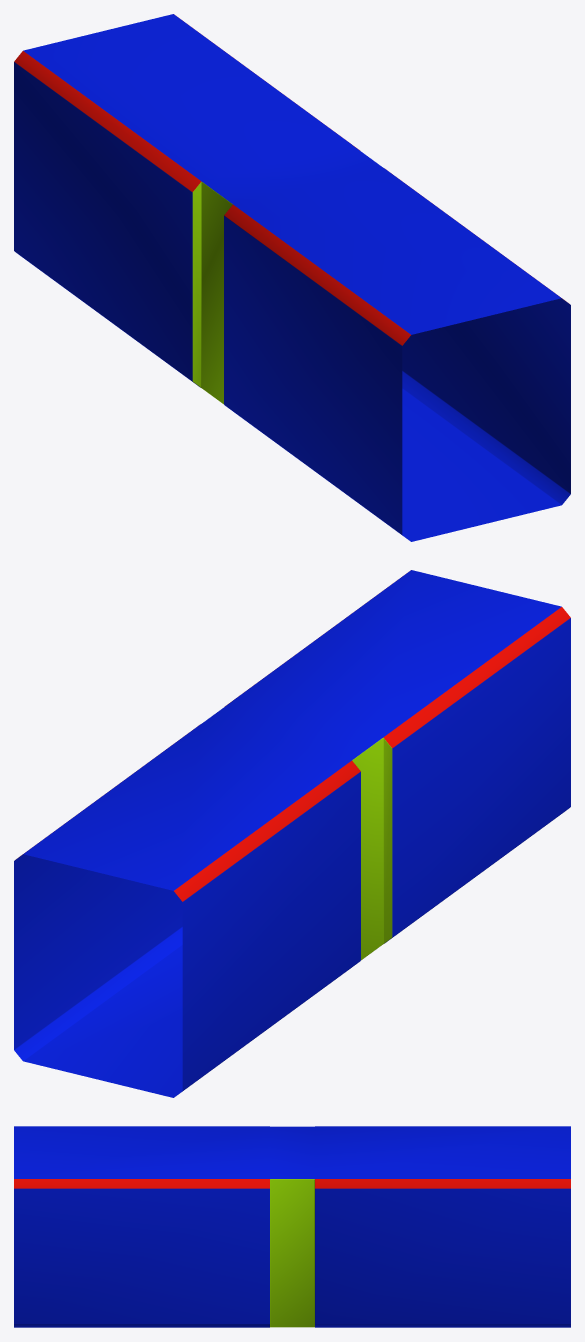
Rendered from Tunnel.fbx.
3 views of the same model, one above another, from view 1: azimuth 30°, elevation 25°; view 2: azimuth 150°, elevation 25°; view 3: azimuth 270°, elevation 25° (orthographic). The views are drawn at different scales.
Parts seen in each view (by area): view 1: Tunnel; view 2: Tunnel; view 3: Tunnel.
Boxes of the visible parts, x1,y1,x2,y2 form: Tunnel: [14, 14, 570, 541]; Tunnel: [14, 570, 570, 1097]; Tunnel: [14, 1126, 570, 1327].
Size of the model in its own units: 201 by 235 by 800.
